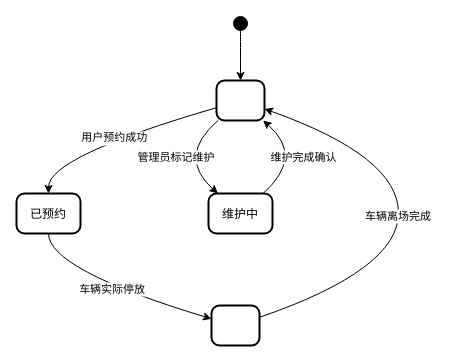
Some shapes in this 449 by 362 pixel diagram are drawn without their labels. Each missing label, with the centre of its shape:
占用: [235,325]
空闲: [240,100]
